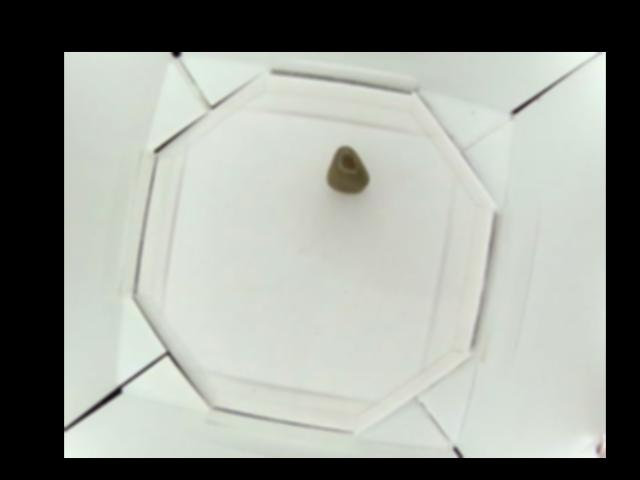Pebble: (328, 142, 373, 195)
